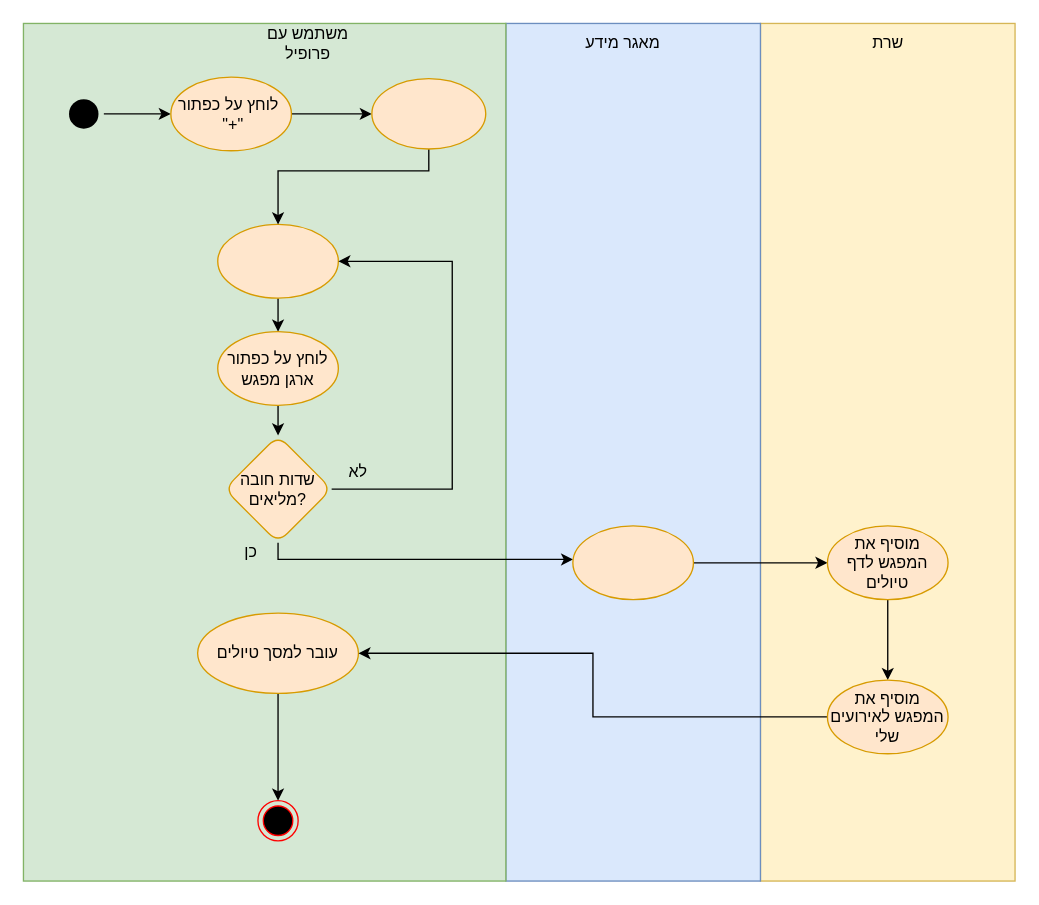
Some shapes in this 1039 by 905 pixel diagram are drawn without their labels. The centre of each missing label's shape, as x and y in pixels:
"בודק את הפרטים" goes at point (632, 562).
"ממלא את שדות החובה" goes at point (277, 260).
"עובר לדף ארגן טיול" goes at point (428, 113).
